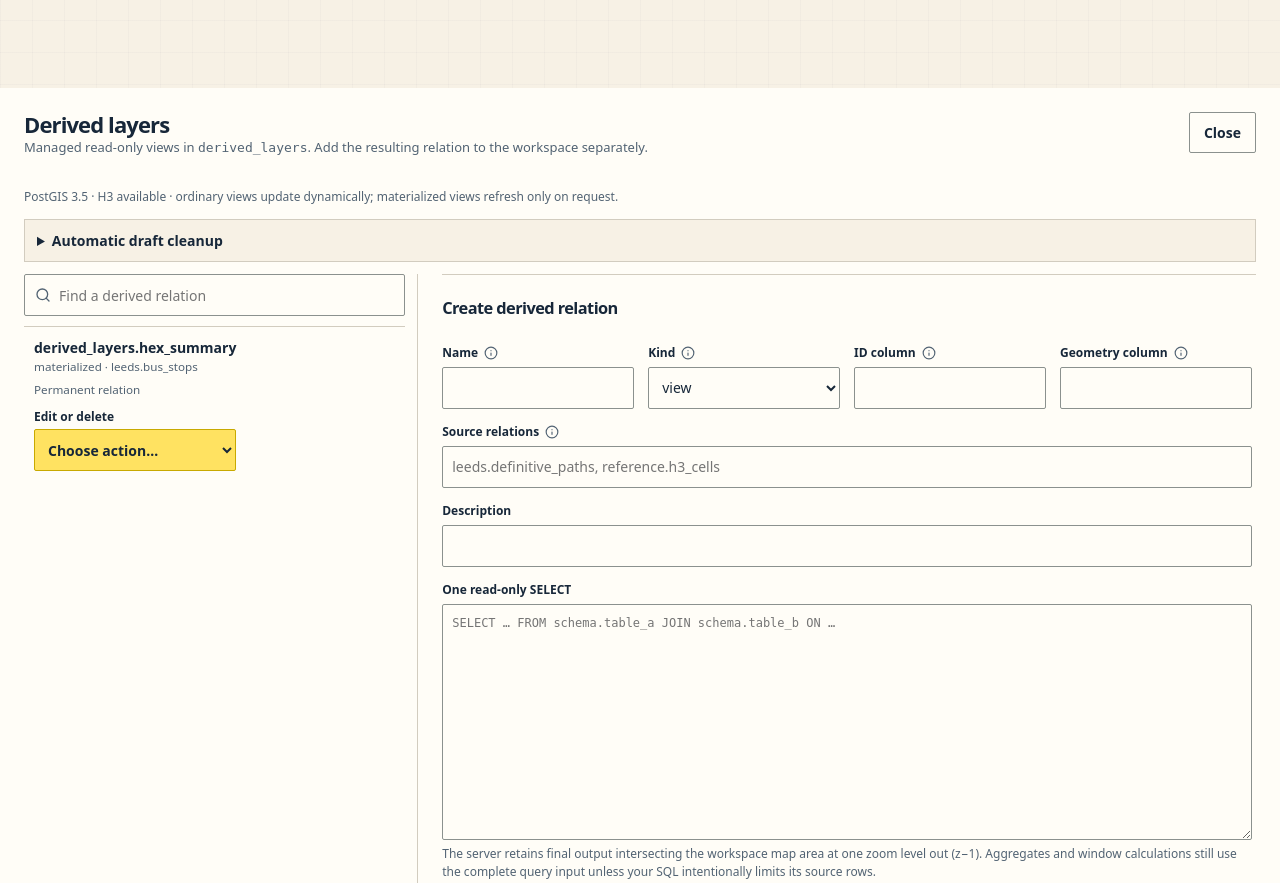
Test case: Dashboard managed save lifecycle › loads the exact oversized refresh as a view draft without converting it
(page scrolled)
Select "Refresh data" in the dropdown named "Edit or delete derived_layers.hex_summary" at (135,450), box [34,429,236,471]
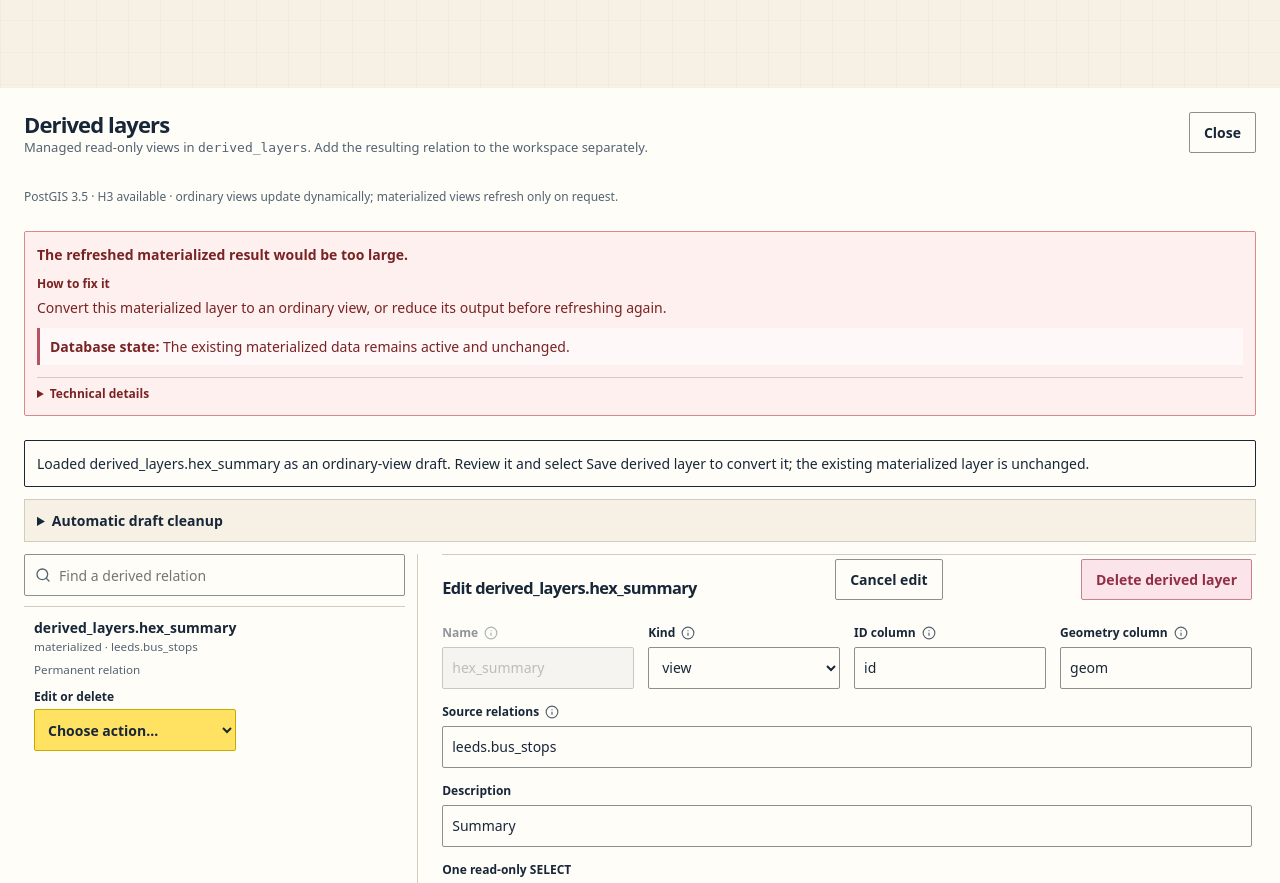
Expected: the heading "Edit derived_layers.hex_summary" is shown, [442,579,697,598]
Expected: the text "Review it and select Save derived layer to convert it" is shown, [37,454,1089,473]
Expected: the text "existing materialized data remains active and unchanged" is shown, [163,337,570,356]
